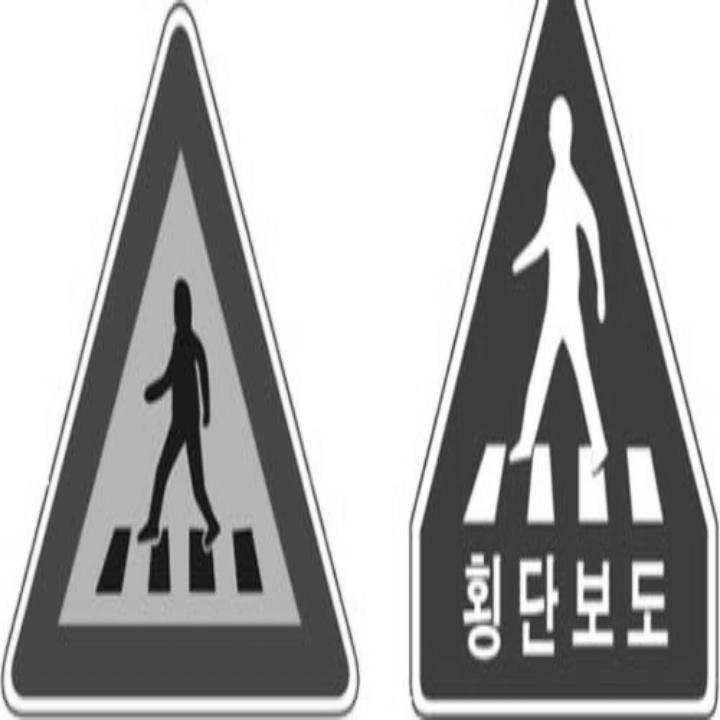cross: (413, 76, 701, 540), (80, 260, 273, 609)
